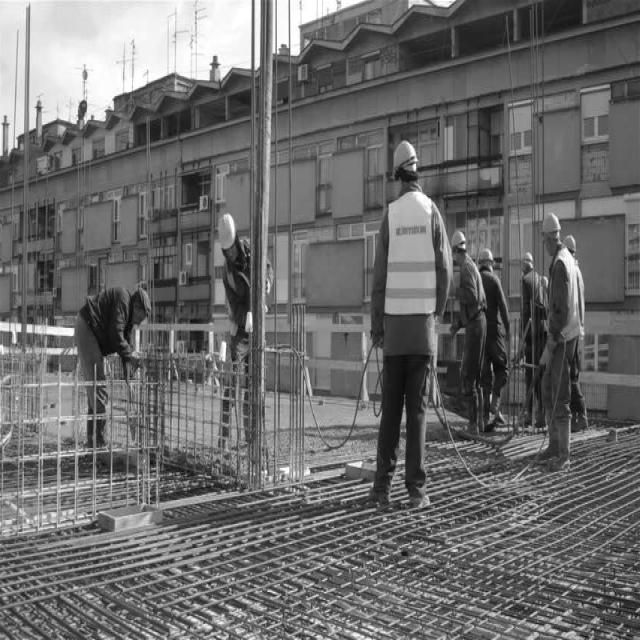head_helmet: (391, 142, 415, 174), (215, 215, 234, 252), (544, 211, 560, 232), (518, 249, 532, 264), (565, 234, 578, 247), (453, 230, 462, 246)
head_nohelmet: (138, 274, 158, 318)
person: (363, 144, 433, 507), (70, 289, 152, 422), (209, 219, 262, 353), (540, 208, 567, 460), (450, 229, 481, 399), (481, 242, 507, 414), (568, 228, 590, 417), (519, 249, 539, 351)
vest: (382, 196, 433, 317), (552, 248, 582, 339)
